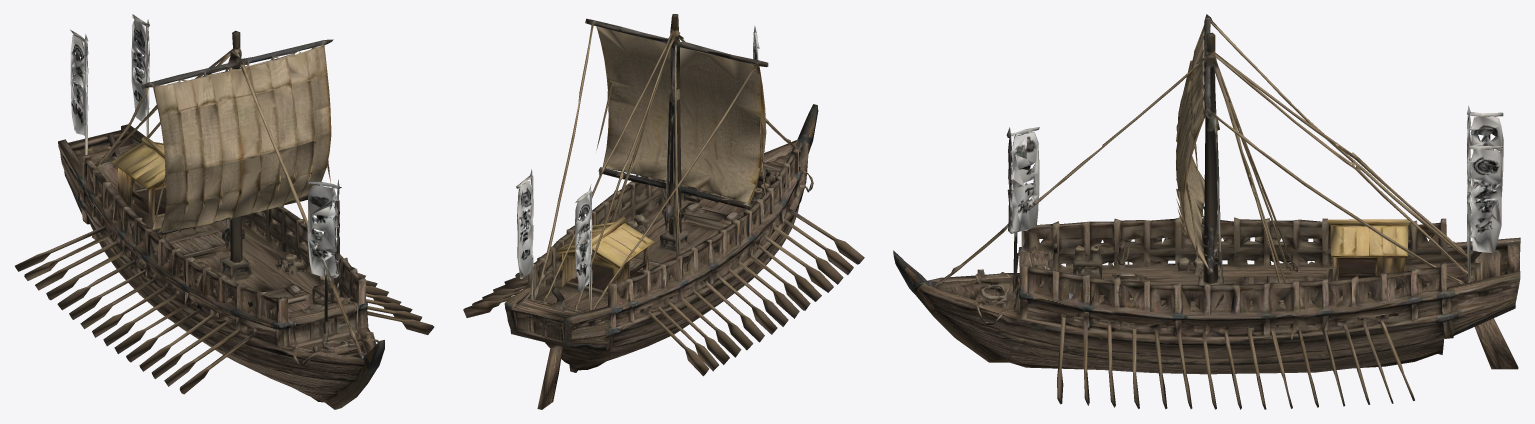
Rendered from sekibune_v2_lod1.glb.
The picture shows the model from 3 angles, left to right: view 1: azimuth 30°, elevation 25°; view 2: azimuth 150°, elevation 25°; view 3: azimuth 270°, elevation 25°; orthographic projection. The views are drawn at different scales.
Visible parts, largest first — view 1: tripo_node_8296add7-7248-4e58-8521-8ef38d7d1bdd; view 2: tripo_node_8296add7-7248-4e58-8521-8ef38d7d1bdd; view 3: tripo_node_8296add7-7248-4e58-8521-8ef38d7d1bdd.
Boxes of the visible parts, left/top/right/bottom form: tripo_node_8296add7-7248-4e58-8521-8ef38d7d1bdd: left=15, top=14, right=434, bottom=409; tripo_node_8296add7-7248-4e58-8521-8ef38d7d1bdd: left=463, top=14, right=864, bottom=409; tripo_node_8296add7-7248-4e58-8521-8ef38d7d1bdd: left=893, top=14, right=1520, bottom=409.
Bounding box in the file's own units: 0.5139 × 0.5763 × 0.9781.
1 material, 1 textured.
